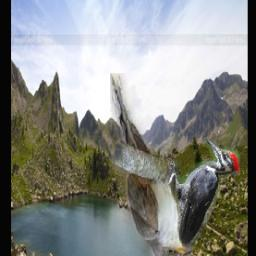Cuckoo: (110, 74, 193, 256)
Woodpecker: (166, 137, 239, 254)
